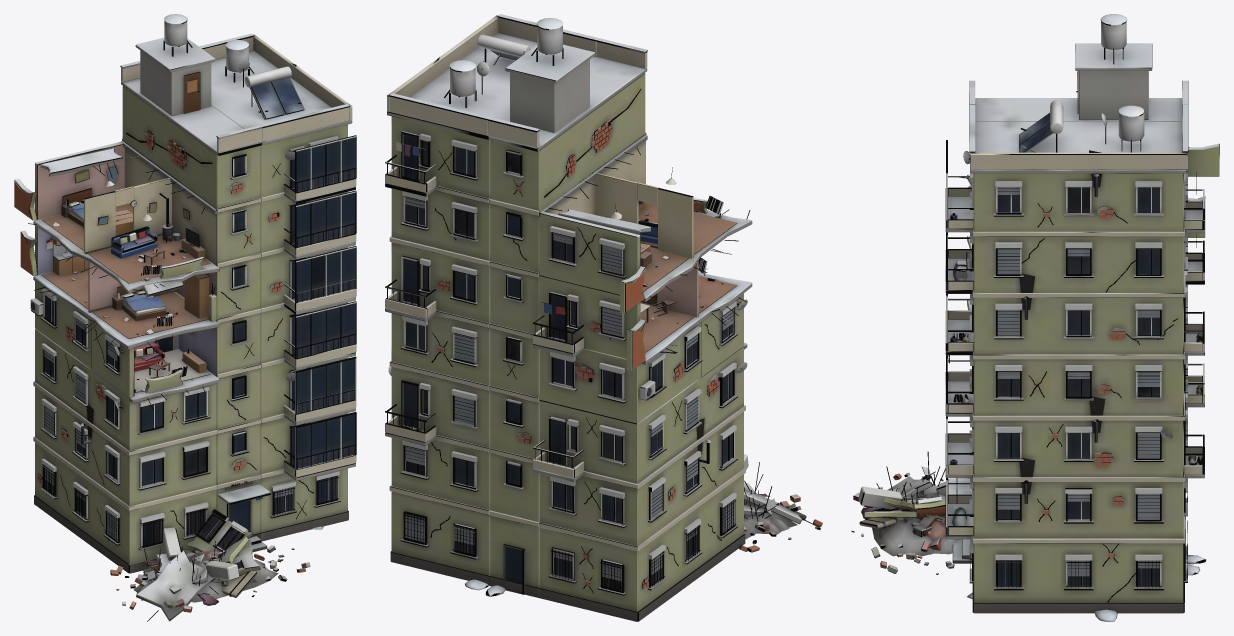
File: bld_cut_corner.glb
3 renders of one model, left to right at view 1: azimuth 30°, elevation 25°; view 2: azimuth 150°, elevation 25°; view 3: azimuth 270°, elevation 25°, orthographic. The views are drawn at different scales.
Parts seen in each view (by area): view 1: bld_cut_corner; view 2: bld_cut_corner; view 3: bld_cut_corner.
Part boxes in pixels (left/top/right/bottom): bld_cut_corner: left=14, top=14, right=356, bottom=621; bld_cut_corner: left=385, top=14, right=822, bottom=621; bld_cut_corner: left=851, top=14, right=1219, bottom=621.
Size of the model in its own units: 14.99 by 25.98 by 15.76.
Materials: 1 (1 with a texture image).
